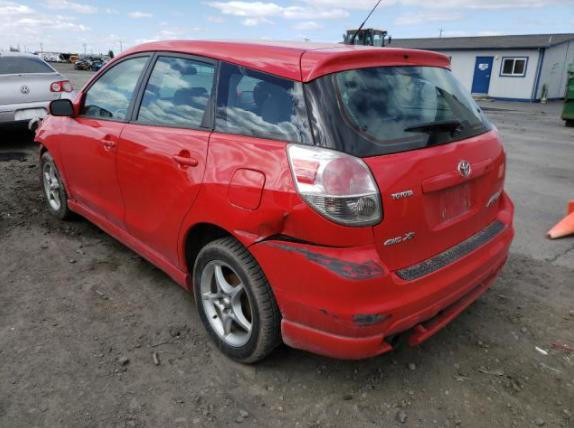Back-bumper: (251, 198, 517, 358)
Back-door: (117, 52, 218, 268)
Back-wheel: (194, 235, 282, 364)
Back-window: (211, 62, 314, 145), (136, 56, 211, 127)
Back-windshield: (326, 65, 492, 160)
Fender: (33, 117, 70, 197)
Front-door: (60, 52, 153, 230)
Front-wheel: (42, 151, 68, 218)
Front-window: (81, 59, 145, 120)
Mirror: (48, 100, 74, 117)
Quarter-panel: (179, 134, 373, 273)
Rocker-panel: (68, 200, 188, 291)
Roof: (140, 40, 343, 57)
Tail-light: (288, 142, 385, 226)
Trunk: (300, 42, 506, 272)
